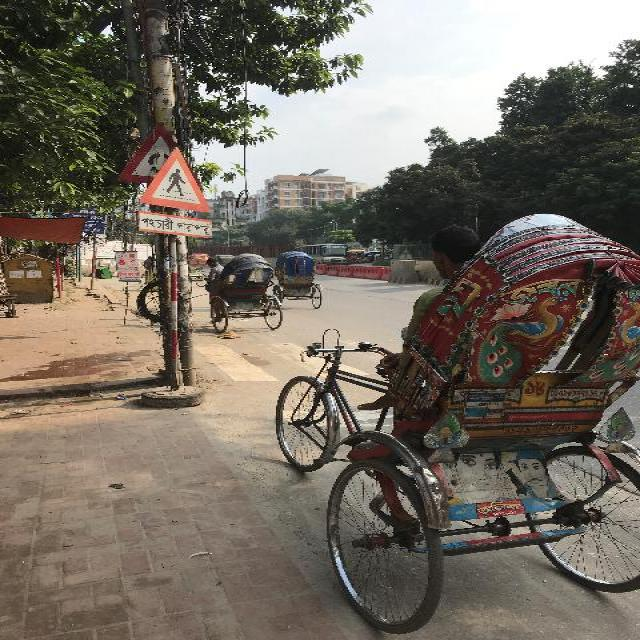vehicle: (364, 213, 638, 637), (208, 255, 282, 333), (272, 251, 319, 310), (322, 245, 349, 268), (190, 255, 207, 288), (351, 254, 358, 264)
